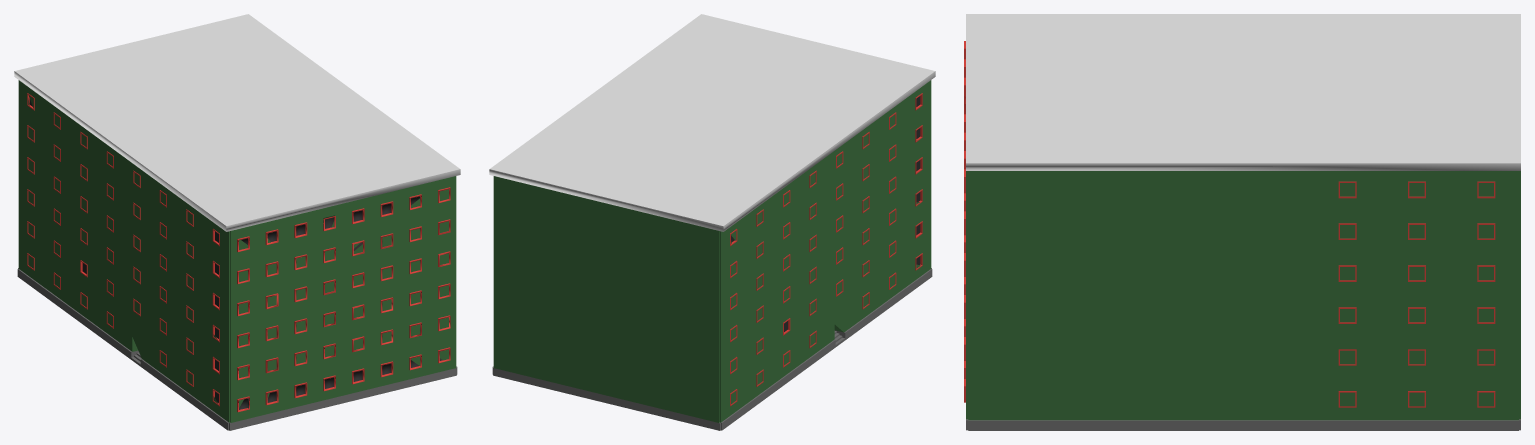
The model's file is BCR40_F06_01.fbx.
3 views of the same model, side by side, from view 1: azimuth 30°, elevation 25°; view 2: azimuth 150°, elevation 25°; view 3: azimuth 270°, elevation 25° (orthographic). The views are drawn at different scales.
Parts seen in each view (by area): view 1: BCR40_F06_01; view 2: BCR40_F06_01; view 3: BCR40_F06_01.
Part boxes in pixels (left/top/right/bottom): BCR40_F06_01: left=14, top=14, right=460, bottom=430; BCR40_F06_01: left=489, top=14, right=935, bottom=430; BCR40_F06_01: left=964, top=14, right=1520, bottom=430.
Size of the model in its own units: 2550 by 2140 by 4015.
